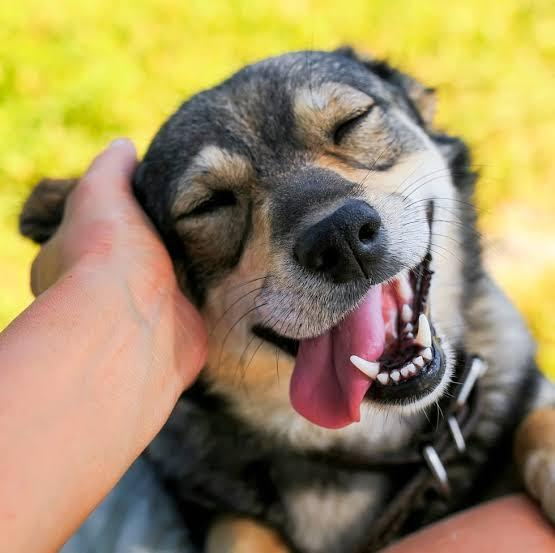adult_dog: (17, 45, 555, 553)
